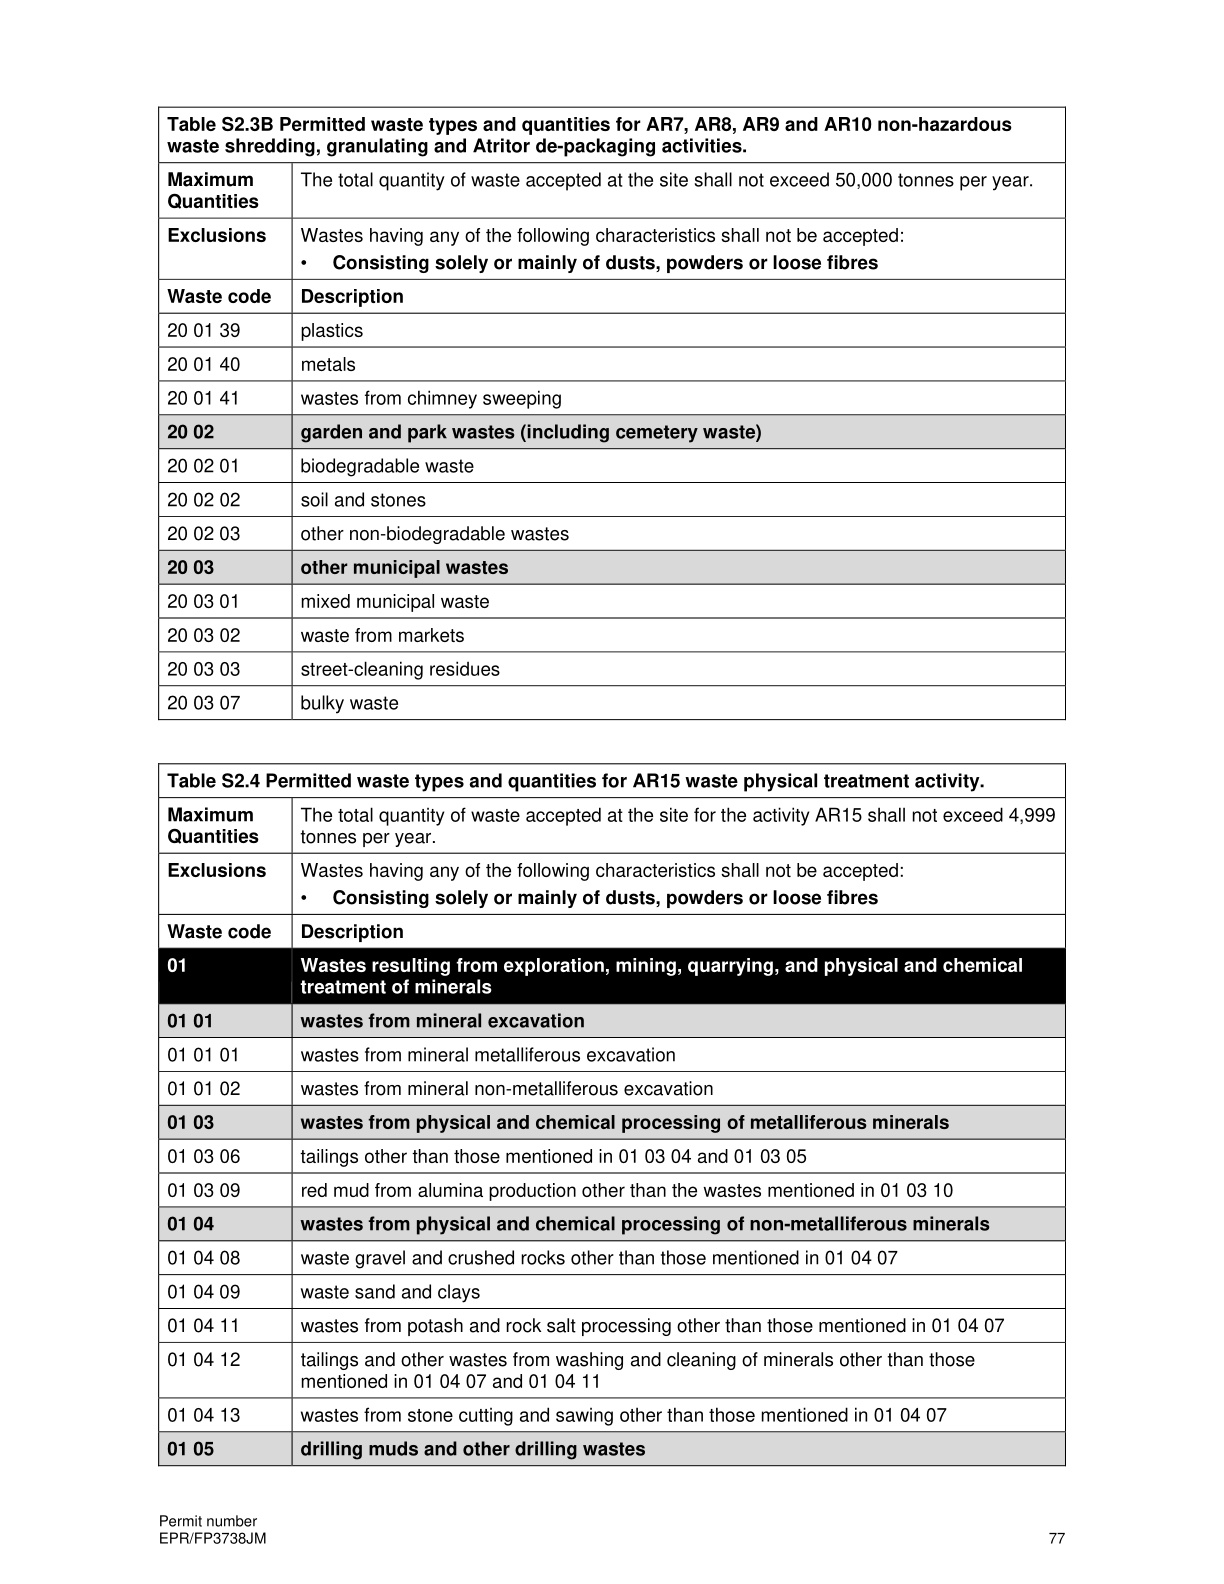merged_cells: (157, 762, 1066, 1467), (158, 105, 1067, 721)
